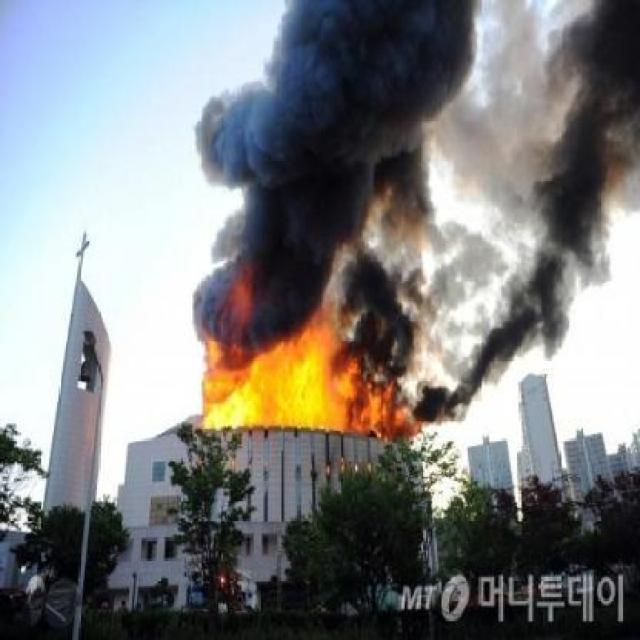Fire: (173, 310, 462, 432)
Smoke: (188, 2, 634, 321), (460, 304, 560, 406)
